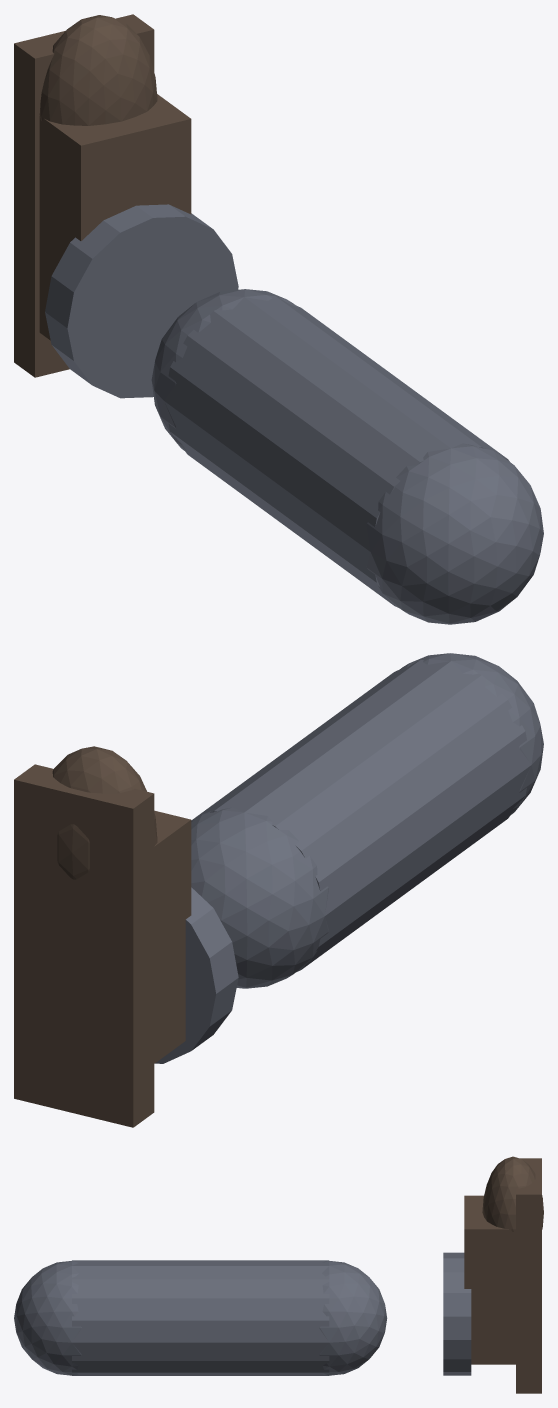
File: teibi_right_lower_leg.glb
3 views of the same model, one above another, from view 1: azimuth 30°, elevation 25°; view 2: azimuth 150°, elevation 25°; view 3: azimuth 270°, elevation 25° (orthographic). The views are drawn at different scales.
Visible parts, largest first — view 1: geometry_0; view 2: geometry_0; view 3: geometry_0.
Part boxes in pixels (<box>): geometry_0: <box>14,14,543,624</box>; geometry_0: <box>14,653,543,1127</box>; geometry_0: <box>14,1156,543,1393</box>.
Size of the model in its own units: 0.132 by 0.2558 by 0.568.
